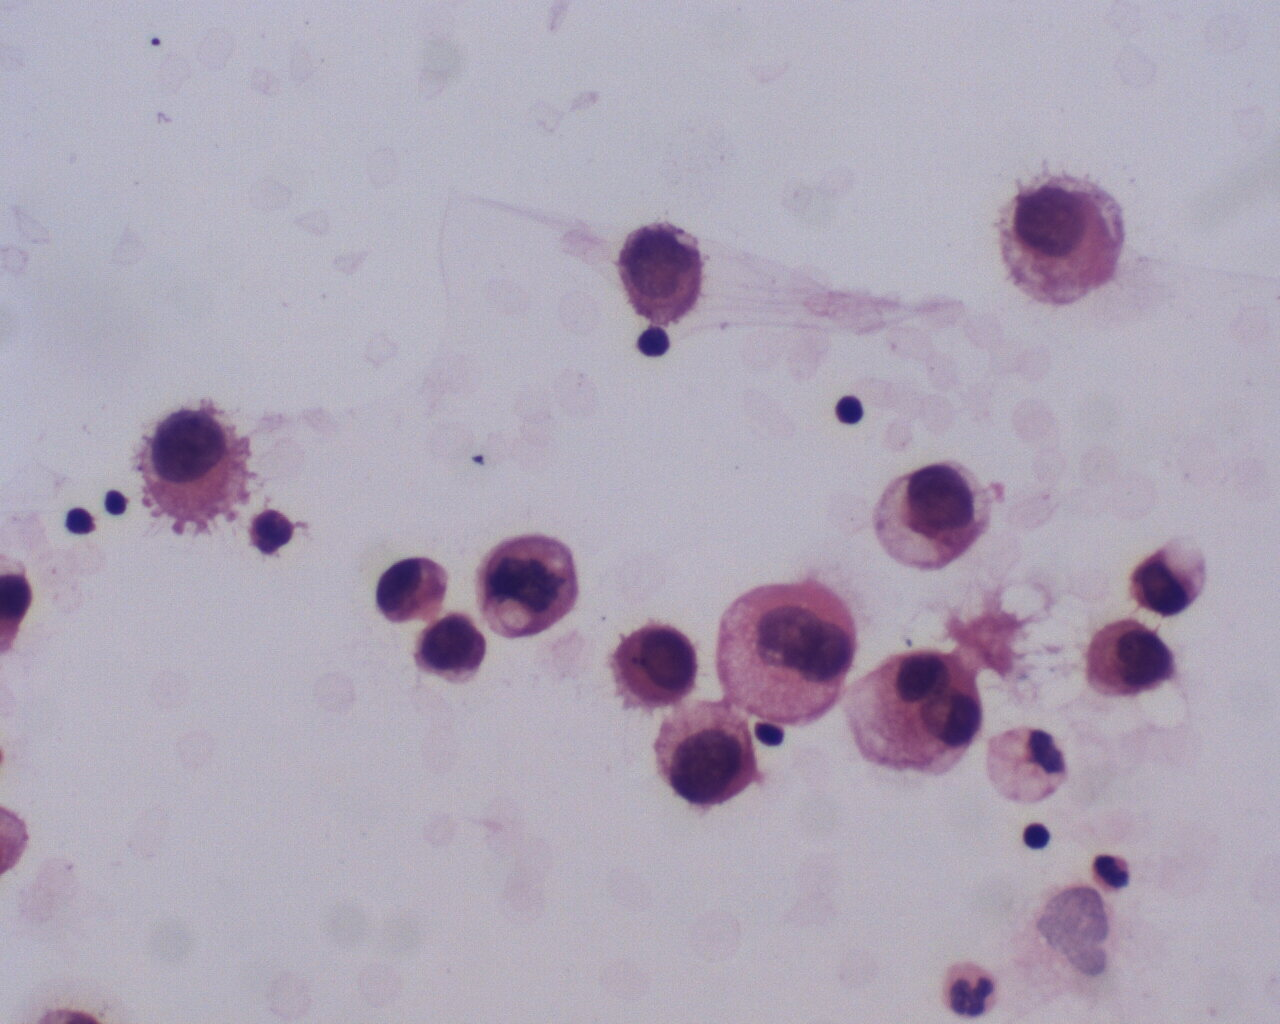ab: (868, 455, 987, 576), (471, 534, 587, 649), (650, 699, 762, 802), (613, 216, 711, 328), (1083, 610, 1183, 703), (611, 615, 698, 714), (410, 614, 494, 686)
histo: (984, 720, 1073, 806)
lymph: (829, 391, 872, 428), (638, 320, 675, 363), (1021, 812, 1054, 853)
meso: (996, 164, 1133, 311), (127, 403, 262, 543)
neutro: (939, 956, 1003, 1023), (1088, 850, 1133, 893)
